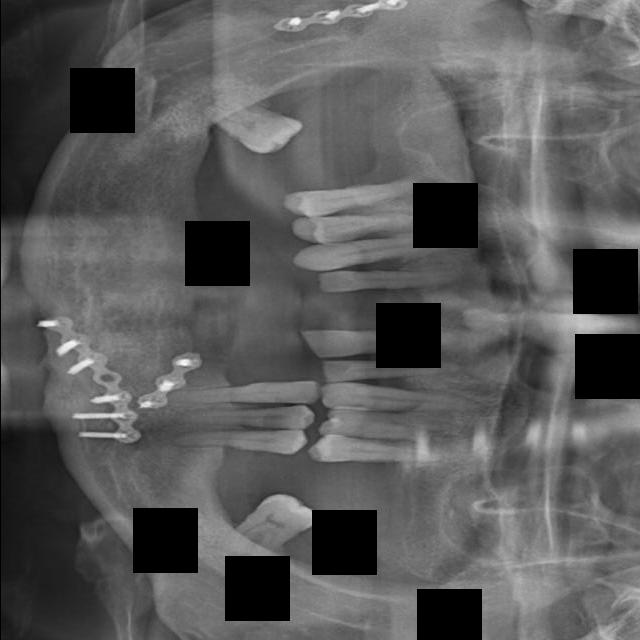AGS Medikal Implant: (310, 355, 467, 383)
AMerOss Implant: (321, 381, 490, 416)
Amalgam filling: (316, 405, 458, 443)
Anthogyr Implant: (307, 434, 443, 463)
Biomet 3i Implant: (217, 477, 324, 573)
Composite filling: (170, 428, 308, 458)
Cowellmedi Implant: (171, 405, 313, 428)
Crown: (165, 380, 320, 404)
Keystone Dental Implant: (194, 84, 304, 165)
MIS Implant: (283, 176, 427, 222)
Mandible: (288, 212, 417, 245)
Maxilla: (289, 226, 472, 275)
Megagen Implant: (316, 264, 468, 293)
Neoss Implant: (298, 328, 468, 359)
